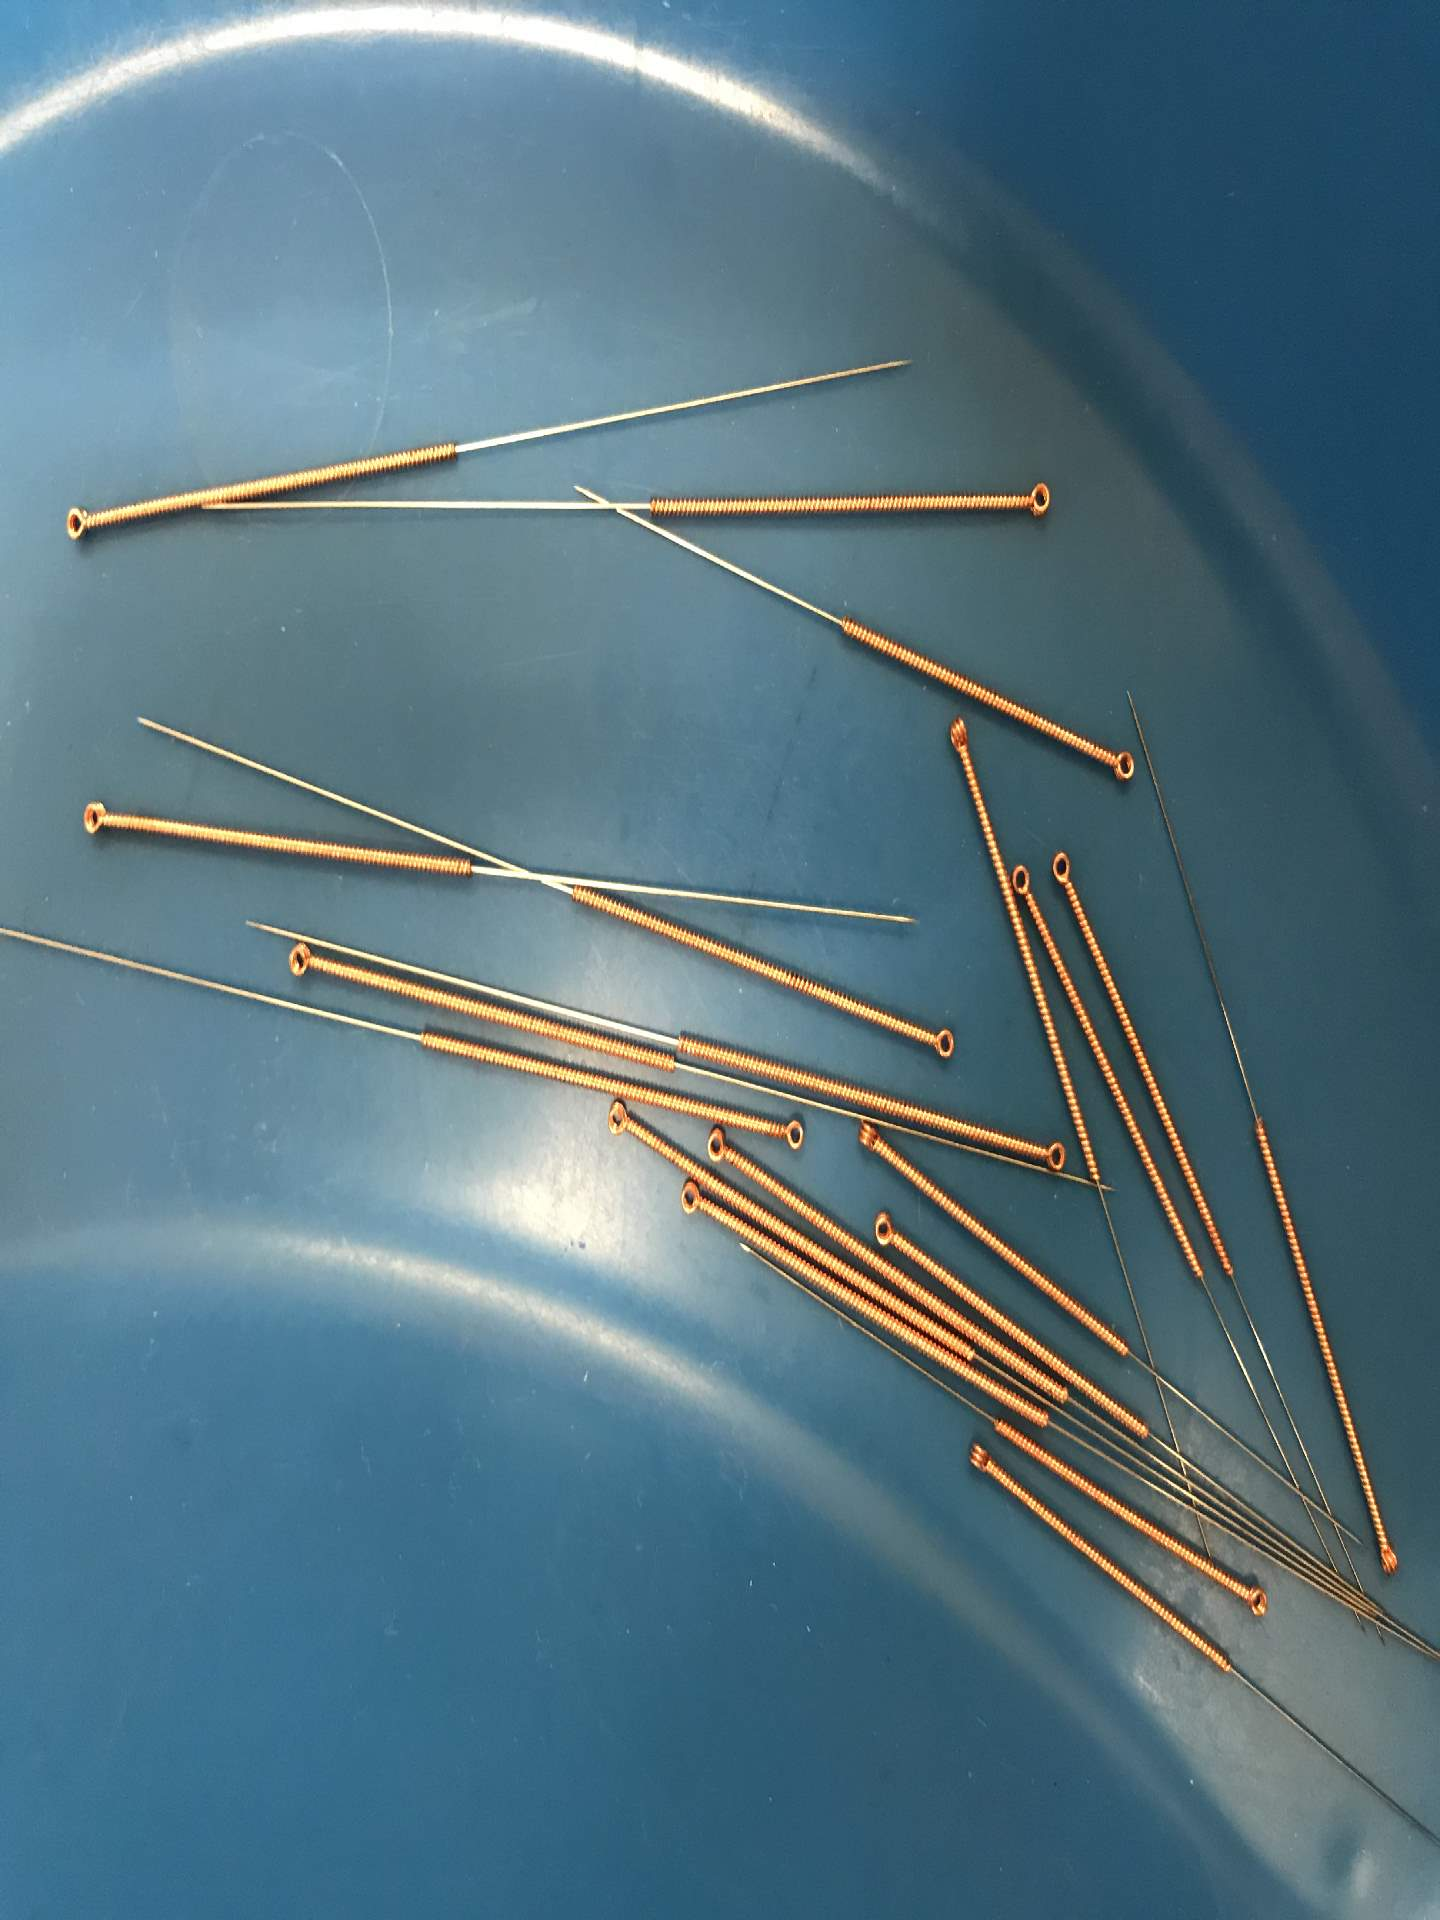needle: (1006, 472, 1066, 528), (51, 497, 104, 547), (70, 794, 119, 844), (935, 708, 979, 762), (921, 1019, 967, 1069), (841, 1116, 892, 1160), (1044, 844, 1082, 901), (275, 939, 321, 986), (770, 1110, 814, 1158), (1103, 744, 1144, 794), (699, 1123, 740, 1170), (867, 1205, 905, 1255), (1035, 1132, 1072, 1181), (959, 1438, 998, 1482), (1370, 1534, 1404, 1586), (601, 1098, 638, 1141), (1239, 1581, 1275, 1627), (672, 1178, 706, 1219), (1010, 854, 1038, 906)
